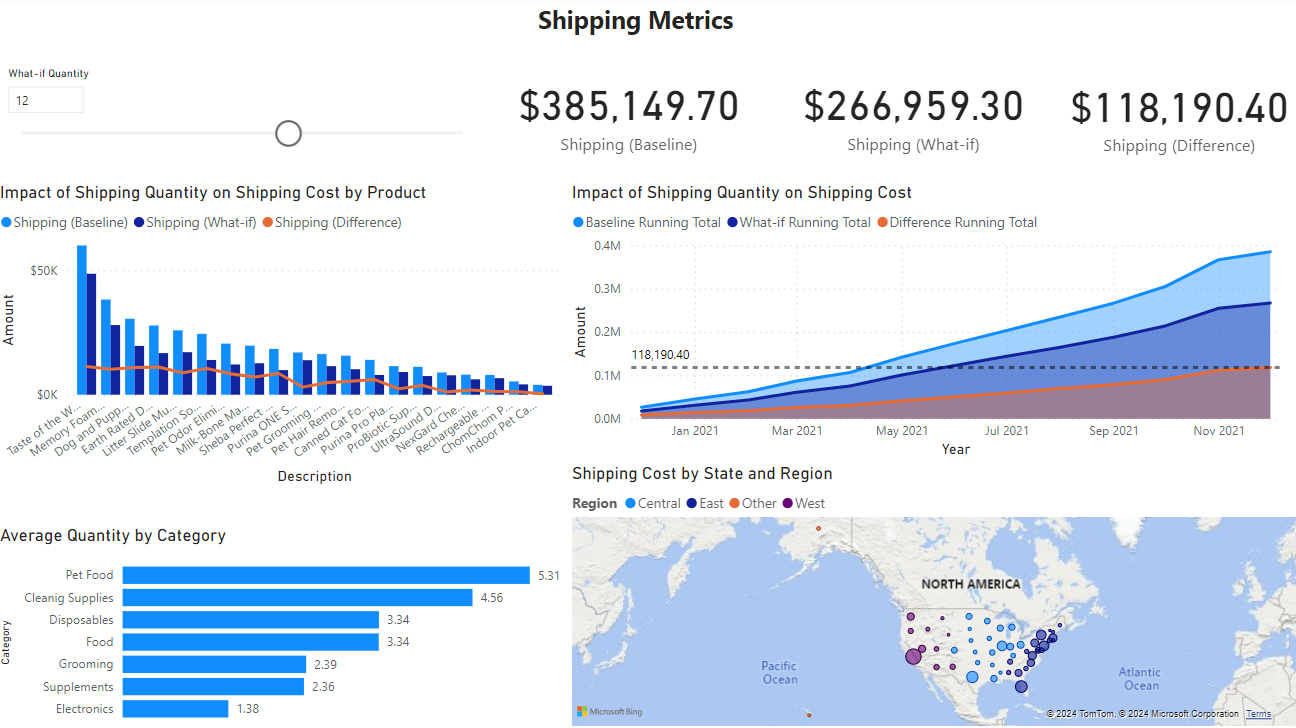

What the dashboard file says about the page in this screenshot:
{"tool":"powerbi","page":{"name":"Shipping Metrics","canvas":[1280,720],"ordinal":6},"visuals":[{"type":"slicer","fields":{"Values":["What-if Quantity.What-if Quantity"]},"box":[0,44.1,280.1,137.1],"z":0},{"type":"card","fields":{"Values":["Sales.Shipping (Baseline)"]},"box":[280.1,41.1,280.1,140],"z":1000},{"type":"card","fields":{"Values":["Sales.Shipping (What-if)"]},"box":[560.2,41.1,281.1,140],"z":2000},{"type":"card","fields":{"Values":["Sales.Shipping (Difference)"]},"box":[841.3,44.1,280.1,140],"z":3000},{"type":"lineClusteredColumnComboChart","title":"Impact of Shipping Quantity on Shipping Cost by Product","fields":{"Category":["Sales.Description"],"Y":["Sales.Shipping (Baseline)","Sales.Shipping (What-if)"],"Y2":["Sales.Shipping (Difference)"]},"box":[0,181.2,560.2,301.6],"z":4000},{"type":"areaChart","title":"Impact of Shipping Quantity on Shipping Cost","fields":{"Category":["Sales.Transaction Date.Variation.Date Hierarchy.Year","Sales.Transaction Date.Variation.Date Hierarchy.Month"],"Y":["Sales.Baseline Running Total","Sales.What-if Running Total","Sales.Difference Running Total"]},"box":[560.2,181.2,719.8,275.2],"z":5000},{"type":"clusteredBarChart","title":"Average Quantity by Category","fields":{"Category":["Products.Category"],"Y":["Avg(Sales.Quantity)"]},"box":[0,517.1,560.2,202.7],"z":5001},{"type":"map","title":"Shipping Cost by State and Region","fields":{"Size":["Sales.Shipping (Baseline)"],"Category":["States.State"],"Series":["States.Region"]},"box":[560.2,482.8,474,237],"z":5002},{"type":"textbox","box":[526.9,0,234.1,44.1],"z":5003}]}

Visuals, with their boxes in screenshot pixels (x1, y1, x2, y2), scaled from the page's 1280x720 canvas onto the 1296x728 screenshot:
slicer - What-if Quantity.What-if Quantity: box(0, 45, 284, 183)
card - Sales.Shipping (Baseline): box(284, 42, 567, 183)
card - Sales.Shipping (What-if): box(567, 42, 852, 183)
card - Sales.Shipping (Difference): box(852, 45, 1135, 186)
"Impact of Shipping Quantity on Shipping Cost by Product" lineClusteredColumnComboChart: box(0, 183, 567, 488)
"Impact of Shipping Quantity on Shipping Cost" areaChart: box(567, 183, 1295, 461)
"Average Quantity by Category" clusteredBarChart: box(0, 523, 567, 727)
"Shipping Cost by State and Region" map: box(567, 488, 1047, 727)
textbox: box(533, 0, 771, 45)
